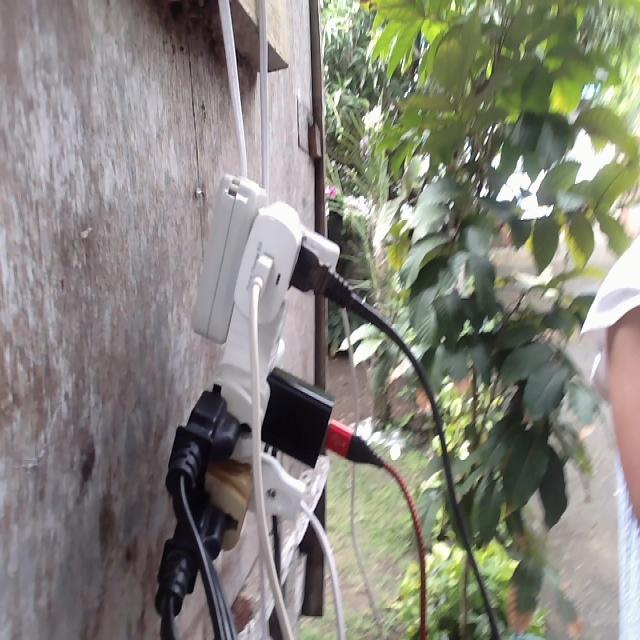-: (152, 167, 367, 622)
